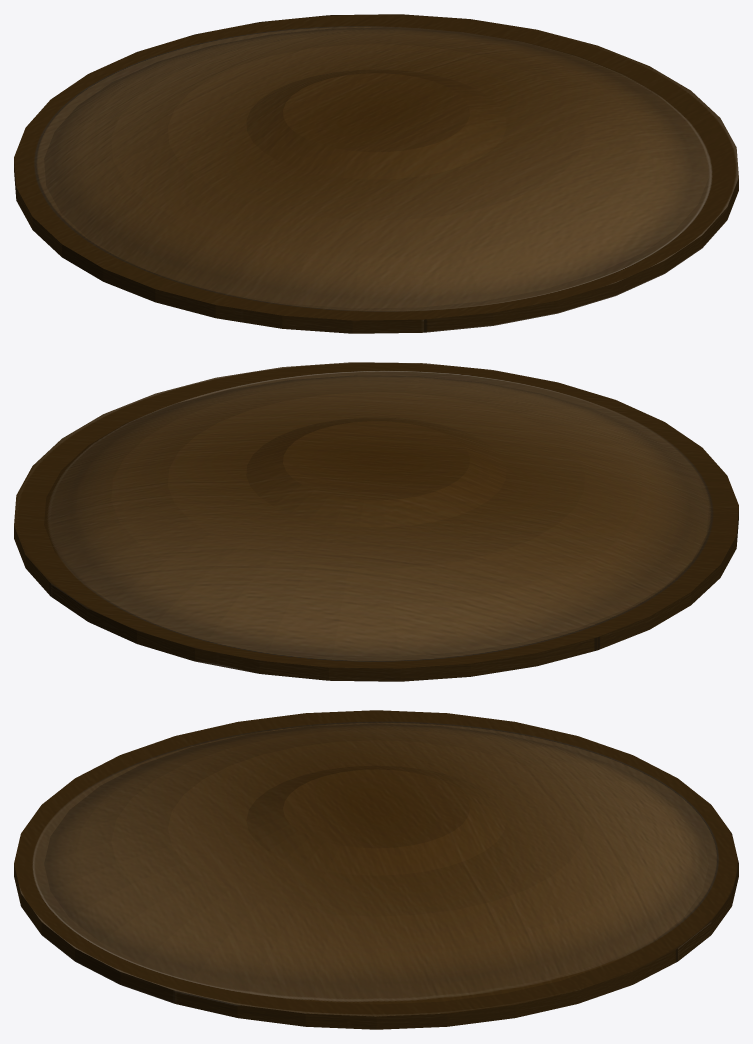
Rendered from shield.fbx.
3 renders of one model, top to bottom at view 1: azimuth 30°, elevation 25°; view 2: azimuth 150°, elevation 25°; view 3: azimuth 270°, elevation 25°, orthographic.
Parts seen in each view (by area): view 1: Circle; view 2: Circle; view 3: Circle.
Boxes of the visible parts, <box> form: Circle: <box>14,14,738,333</box>; Circle: <box>14,362,738,681</box>; Circle: <box>14,710,738,1029</box>.
Bounding box in the file's own units: 200 × 20.6 × 200.
